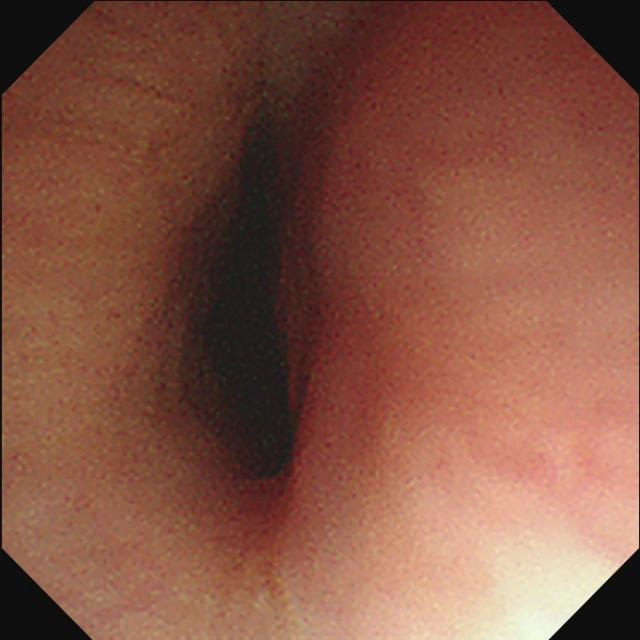E: (208, 133, 289, 481)
